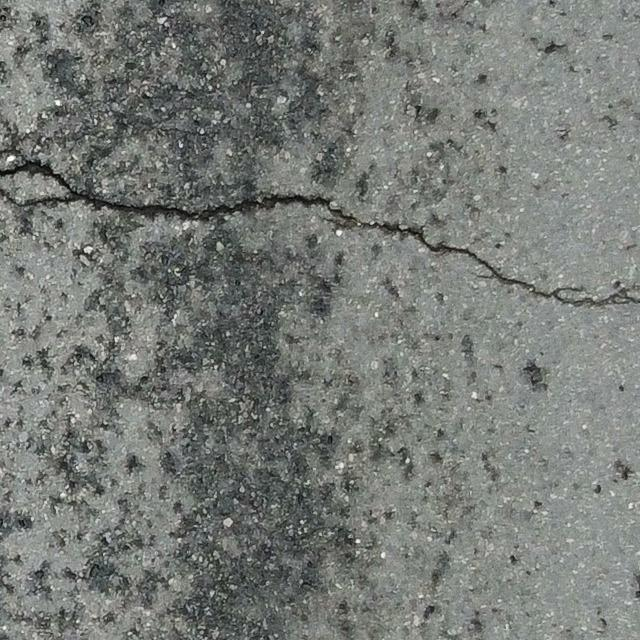TransverseCrack: (1, 148, 640, 308)
